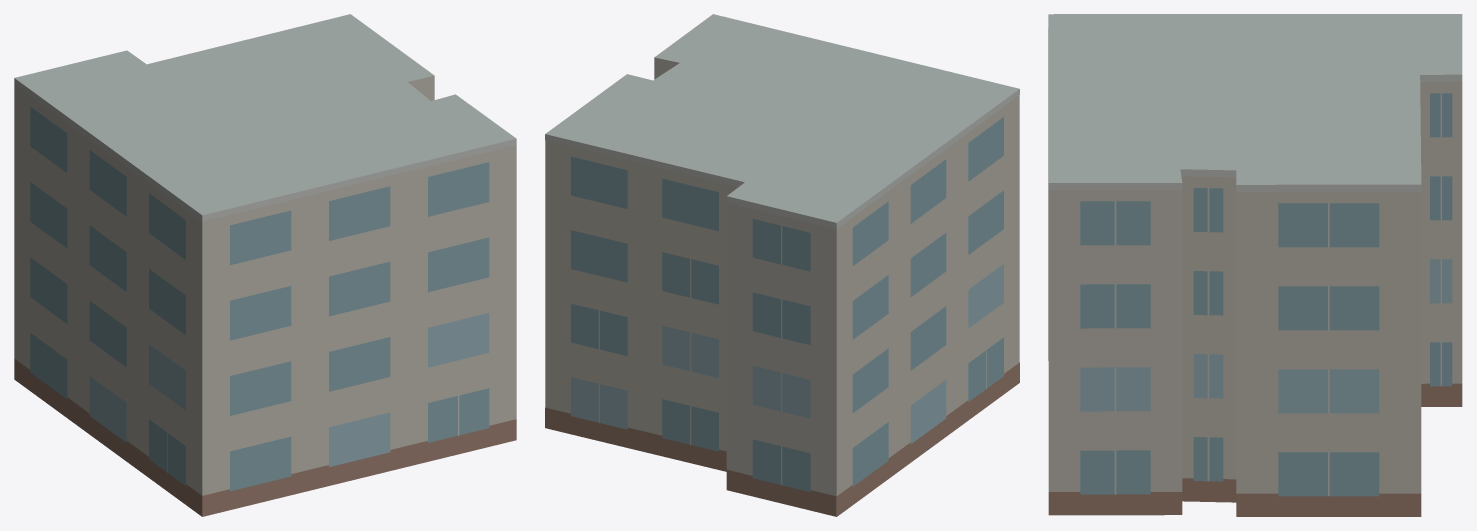
The model's file is survey-upis-32782990.glb.
The picture shows the model from 3 angles, left to right: view 1: azimuth 30°, elevation 25°; view 2: azimuth 150°, elevation 25°; view 3: azimuth 270°, elevation 25°; orthographic projection. The views are drawn at different scales.
Parts seen in each view (by area): view 1: survey-upis-32782990.tmp; view 2: survey-upis-32782990.tmp; view 3: survey-upis-32782990.tmp.
Boxes of the visible parts, x1=… form: survey-upis-32782990.tmp: x1=14, y1=14, x2=516, y2=516; survey-upis-32782990.tmp: x1=545, y1=14, x2=1019, y2=516; survey-upis-32782990.tmp: x1=1048, y1=14, x2=1462, y2=516.
Size of the model in its own units: 12.81 by 11.6 by 13.12.
